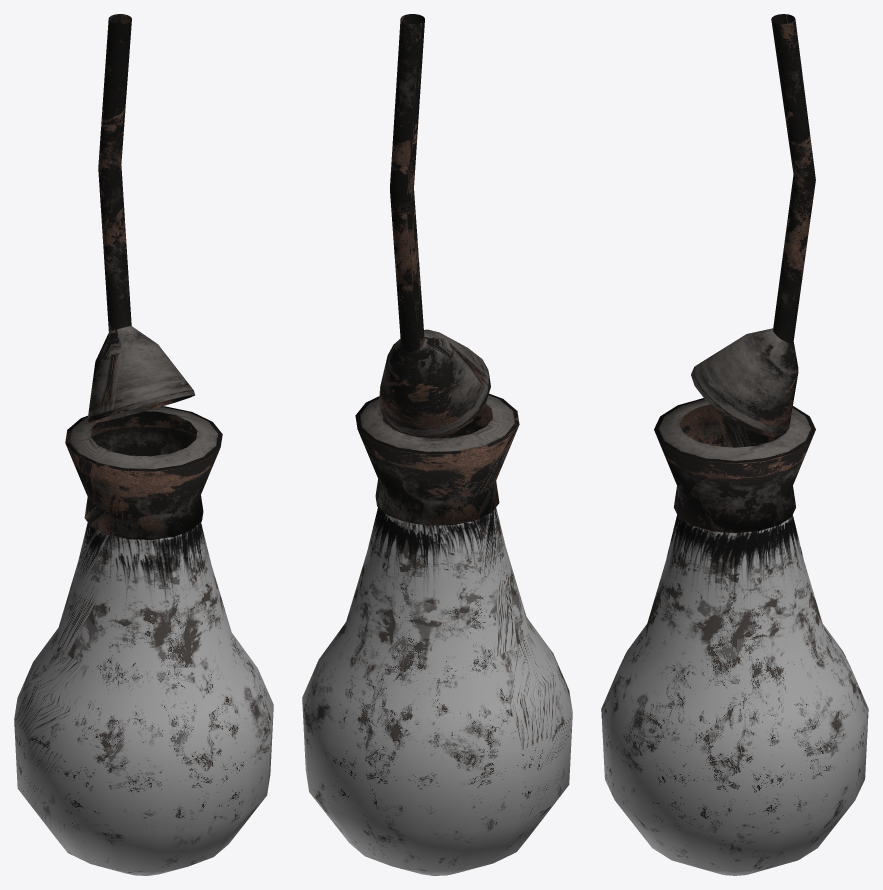
File: Ampoule_Test.glb
3 renders of one model, left to right at view 1: azimuth 30°, elevation 25°; view 2: azimuth 150°, elevation 25°; view 3: azimuth 270°, elevation 25°, orthographic. The views are drawn at different scales.
Parts seen in each view (by area): view 1: G6_DM_Socle.000; view 2: G6_DM_Socle.000; view 3: G6_DM_Socle.000.
Boxes of the visible parts, bbox=[...] form: G6_DM_Socle.000: bbox=[14, 14, 273, 875]; G6_DM_Socle.000: bbox=[302, 14, 572, 875]; G6_DM_Socle.000: bbox=[601, 14, 868, 875].
Size of the model in its own units: 0.0926 by 0.3241 by 0.0926.
2 materials, 2 textured.
